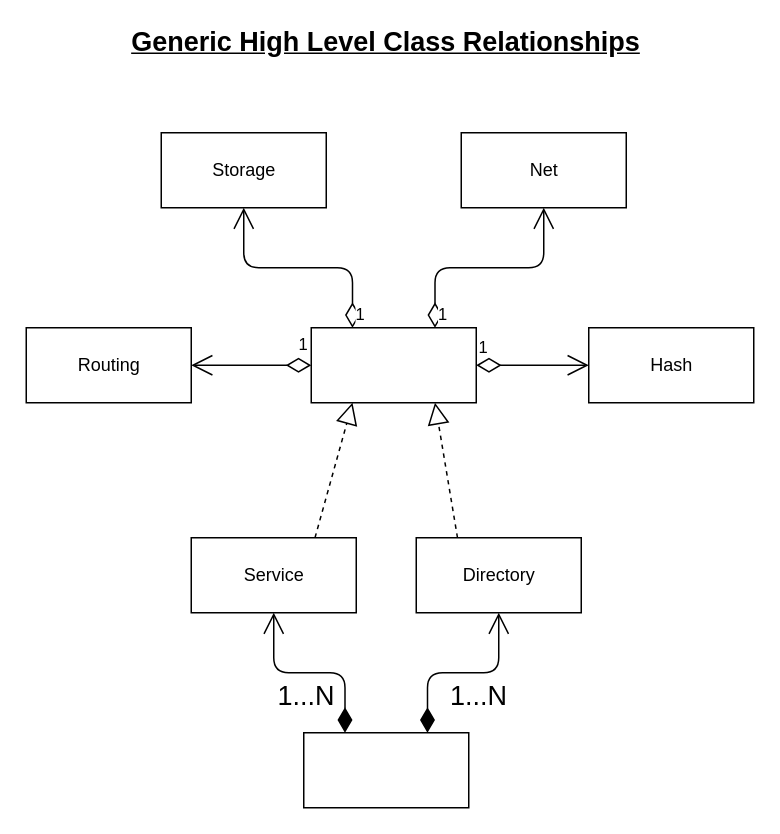
Image size: 780x834. Some labels were removed from this diagram. Each missing label, with the centre of its shape:
Peer: (393,364)
Server: (385,769)
